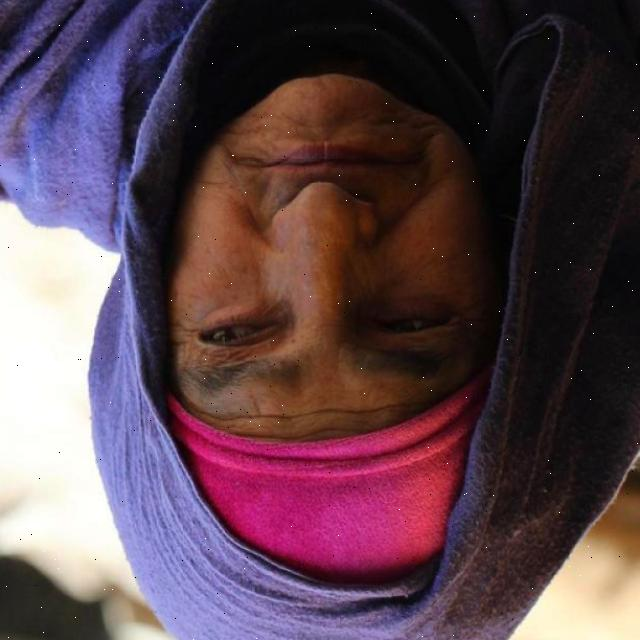puffy_eyes: (189, 285, 276, 317)
